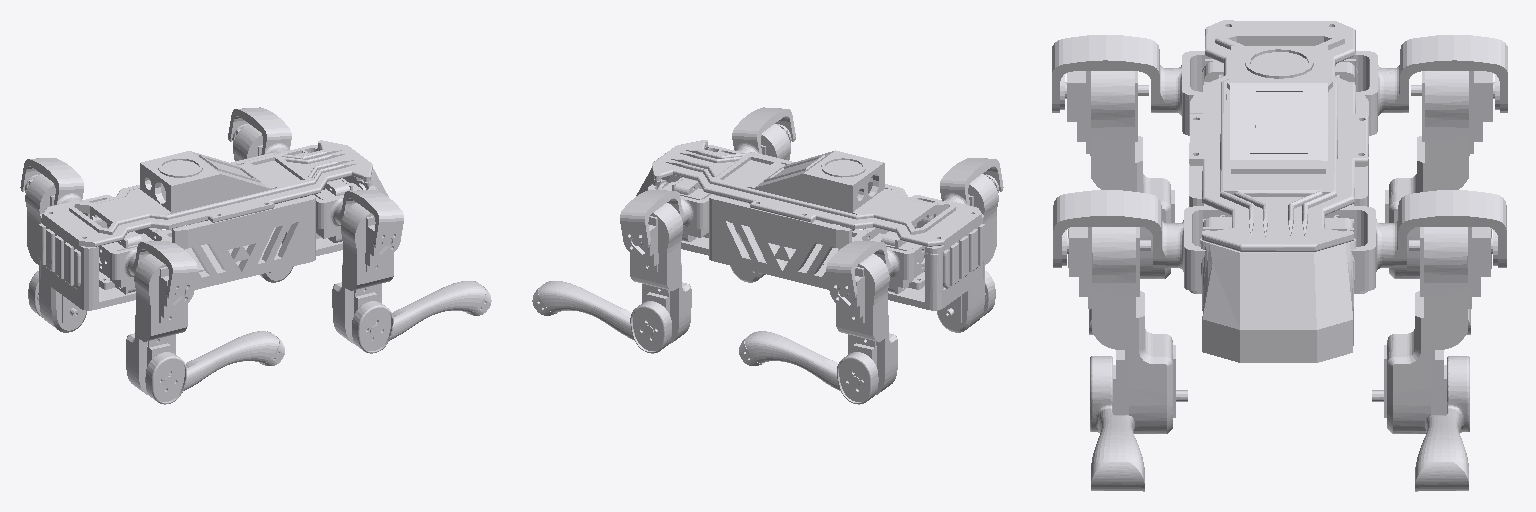
The robot description file, URDF, robot "sdog":
<?xml version="1.0" encoding="utf-8"?>
<!-- This URDF was automatically created by SolidWorks to URDF Exporter! Originally created by [author] ([email redacted]) 
     Commit Version: 1.6.0-1-g15f4949  Build Version: 1.6.7594.29634
     For more information, please see http://wiki.ros.org/sw_urdf_exporter -->
<robot
  name="sdog">
  <link
    name="base">
    <inertial>
      <origin
        xyz="2.4077E-19 -8.4026E-19 0"
        rpy="0 0 0" />
      <mass
        value="0.0027" />
      <inertia
        ixx="4.5E-08"
        ixy="6.9099E-24"
        ixz="0"
        iyy="4.5E-08"
        iyz="0"
        izz="4.5E-08" />
    </inertial>
    <visual>
      <origin
        xyz="0 0 0"
        rpy="0 0 0" />
      <geometry>
        <mesh
          filename="../meshes/base.STL" />
      </geometry>
      <material
        name="">
        <color
          rgba="0.89804 0.91765 0.92941 1" />
      </material>
    </visual>
    <collision>
      <origin
        xyz="0 0 0"
        rpy="0 0 0" />
      <geometry>
        <mesh
          filename="../meshes/base.STL" />
      </geometry>
    </collision>
  </link>
  <link
    name="body">
    <inertial>
      <origin
        xyz="-0.0034448 -0.00025317 -0.012297"
        rpy="0 0 0" />
      <mass
        value="0.18575" />
      <inertia
        ixx="7.6287E-05"
        ixy="1.7486E-06"
        ixz="9.3115E-06"
        iyy="0.00052346"
        iyz="-3.0964E-08"
        izz="0.00055683" />
    </inertial>
    <visual>
      <origin
        xyz="0 0 0"
        rpy="0 0 0" />
      <geometry>
        <mesh
          filename="../meshes/body.STL" />
      </geometry>
      <material
        name="">
        <color
          rgba="0.8902 0.8902 0.91373 1" />
      </material>
    </visual>
    <collision>
      <origin
        xyz="0 0 0"
        rpy="0 0 0" />
      <geometry>
        <mesh
          filename="../meshes/body.STL" />
      </geometry>
    </collision>
  </link>
  <joint
    name="floating_base"
    type="fixed">
    <origin
      xyz="0 0 0"
      rpy="0 0 0" />
    <parent
      link="base" />
    <child
      link="body" />
    <axis
      xyz="0 0 0" />
  </joint>
  <link
    name="fr_hip">
    <inertial>
      <origin
        xyz="0.0023257 -0.025249 0.0055137"
        rpy="0 0 0" />
      <mass
        value="0.01059" />
      <inertia
        ixx="4.1334E-06"
        ixy="-2.9871E-10"
        ixz="-1.5022E-08"
        iyy="1.5517E-06"
        iyz="8.9835E-07"
        izz="4.3284E-06" />
    </inertial>
    <visual>
      <origin
        xyz="0 0 0"
        rpy="0 0 0" />
      <geometry>
        <mesh
          filename="../meshes/fr_hip.STL" />
      </geometry>
      <material
        name="">
        <color
          rgba="0.8902 0.8902 0.91373 1" />
      </material>
    </visual>
    <collision>
      <origin
        xyz="0 0 0"
        rpy="0 0 0" />
      <geometry>
        <mesh
          filename="../meshes/fr_hip.STL" />
      </geometry>
    </collision>
  </link>
  <joint
    name="fr_hip_joint"
    type="revolute">
    <origin
      xyz="0.062526 -0.02085 0"
      rpy="0 0 0" />
    <parent
      link="body" />
    <child
      link="fr_hip" />
    <axis
      xyz="1 0 0" />
    <limit
      lower="-0.8"
      upper="0.8"
      effort="0.45"
      velocity="10" />
  </joint>
  <link
    name="fr_thigh">
    <inertial>
      <origin
        xyz="-5.894E-05 0.0027005 -0.028881"
        rpy="0 0 0" />
      <mass
        value="0.045112" />
      <inertia
        ixx="1.7194E-05"
        ixy="3.2529E-09"
        ixz="-1.5255E-08"
        iyy="1.6439E-05"
        iyz="2.9958E-06"
        izz="4.2244E-06" />
    </inertial>
    <visual>
      <origin
        xyz="0 0 0"
        rpy="0 0 0" />
      <geometry>
        <mesh
          filename="../meshes/fr_thigh.STL" />
      </geometry>
      <material
        name="">
        <color
          rgba="0.8902 0.8902 0.91373 1" />
      </material>
    </visual>
    <collision>
      <origin
        xyz="0 0 0"
        rpy="0 0 0" />
      <geometry>
        <mesh
          filename="../meshes/fr_thigh.STL" />
      </geometry>
    </collision>
  </link>
  <joint
    name="fr_thigh_joint"
    type="revolute">
    <origin
      xyz="0.00031911 -0.03686 0"
      rpy="0 0 0" />
    <parent
      link="fr_hip" />
    <child
      link="fr_thigh" />
    <axis
      xyz="0 1 0" />
    <limit
      lower="-1"
      upper="2"
      effort="0.45"
      velocity="10" />
  </joint>
  <link
    name="fr_calf">
    <inertial>
      <origin
        xyz="0.00056645 -0.001442 -0.035639"
        rpy="0 0 0" />
      <mass
        value="0.012809" />
      <inertia
        ixx="7.4696E-06"
        ixy="3.9251E-09"
        ixz="2.9619E-07"
        iyy="7.596E-06"
        iyz="5.6511E-07"
        izz="5.9209E-07" />
    </inertial>
    <visual>
      <origin
        xyz="0 0 0"
        rpy="0 0 0" />
      <geometry>
        <mesh
          filename="../meshes/fr_calf.STL" />
      </geometry>
      <material
        name="">
        <color
          rgba="0.8902 0.8902 0.91373 1" />
      </material>
    </visual>
    <collision>
      <origin
        xyz="0 0 0"
        rpy="0 0 0" />
      <geometry>
        <mesh
          filename="../meshes/fr_calf.STL" />
      </geometry>
    </collision>
  </link>
  <joint
    name="fr_calf_joint"
    type="revolute">
    <origin
      xyz="-1.4535E-05 0 -0.059049"
      rpy="0 0 0" />
    <parent
      link="fr_thigh" />
    <child
      link="fr_calf" />
    <axis
      xyz="0 1 0" />
    <limit
      lower="-2.69"
      upper="-0.5"
      effort="0.45"
      velocity="10" />
  </joint>
  <link
    name="fr_foot">
    <inertial>
      <origin
        xyz="-0.0024667 -1.4086E-05 -0.0022201"
        rpy="0 0 0" />
      <mass
        value="0.00168" />
      <inertia
        ixx="7.5531E-08"
        ixy="3.2658E-10"
        ixz="1.285E-08"
        iyy="3.8055E-08"
        iyz="1.101E-10"
        izz="7.7234E-08" />
    </inertial>
    <visual>
      <origin
        xyz="0 0 0"
        rpy="0 0 0" />
      <geometry>
        <mesh
          filename="../meshes/fr_foot.STL" />
      </geometry>
      <material
        name="">
        <color
          rgba="0.8902 0.8902 0.91373 1" />
      </material>
    </visual>
    <collision>
      <origin
        xyz="0 0 0"
        rpy="0 0 0" />
      <geometry>
        <mesh
          filename="../meshes/fr_foot.STL" />
      </geometry>
    </collision>
  </link>
  <joint
    name="fr_foot_joint"
    type="fixed" dont_collapse="true">
    <origin
      xyz="0 0 -0.065878"
      rpy="0 0 0" />
    <parent
      link="fr_calf" />
    <child
      link="fr_foot" />
    <axis
      xyz="0 0 0" />
  </joint>
  <link
    name="fl_hip">
    <inertial>
      <origin
        xyz="0.00232572873514476 0.0258760272511582 0.00551368183898278"
        rpy="0 0 0" />
      <mass
        value="0.0105903838198826" />
      <inertia
        ixx="4.13343295115188E-06"
        ixy="2.98221340592325E-10"
        ixz="-1.50192079560735E-08"
        iyy="1.55168940000143E-06"
        iyz="-8.98346104643244E-07"
        izz="4.32842503516181E-06" />
    </inertial>
    <visual>
      <origin
        xyz="0 0 0"
        rpy="0 0 0" />
      <geometry>
        <mesh
          filename="../meshes/fl_hip.STL" />
      </geometry>
      <material
        name="">
        <color
          rgba="0.890196078431372 0.890196078431372 0.913725490196078 1" />
      </material>
    </visual>
    <collision>
      <origin
        xyz="0 0 0"
        rpy="0 0 0" />
      <geometry>
        <mesh
          filename="../meshes/fl_hip.STL" />
      </geometry>
    </collision>
  </link>
  <joint
    name="fl_hip_joint"
    type="revolute">
    <origin
      xyz="0.062526 0.020224 0"
      rpy="0 0 0" />
    <parent
      link="body" />
    <child
      link="fl_hip" />
    <axis
      xyz="1 0 0" />
    <limit
      lower="-0.8"
      upper="0.8"
      effort="0.45"
      velocity="10" />
  </joint>
  <link
    name="fl_thigh">
    <inertial>
      <origin
        xyz="-5.9763E-05 -0.0026948 -0.028882"
        rpy="0 0 0" />
      <mass
        value="0.045114" />
      <inertia
        ixx="1.7197E-05"
        ixy="-2.6788E-09"
        ixz="-1.4873E-08"
        iyy="1.6442E-05"
        iyz="-2.9942E-06"
        izz="4.2244E-06" />
    </inertial>
    <visual>
      <origin
        xyz="0 0 0"
        rpy="0 0 0" />
      <geometry>
        <mesh
          filename="../meshes/fl_thigh.STL" />
      </geometry>
      <material
        name="">
        <color
          rgba="0.8902 0.8902 0.91373 1" />
      </material>
    </visual>
    <collision>
      <origin
        xyz="0 0 0"
        rpy="0 0 0" />
      <geometry>
        <mesh
          filename="../meshes/fl_thigh.STL" />
      </geometry>
    </collision>
  </link>
  <joint
    name="fl_thigh_joint"
    type="revolute">
    <origin
      xyz="0.00031911 0.037482 0"
      rpy="0 0 0" />
    <parent
      link="fl_hip" />
    <child
      link="fl_thigh" />
    <axis
      xyz="0 1 0" />
    <limit
      lower="-1"
      upper="2"
      effort="0.45"
      velocity="10" />
  </joint>
  <link
    name="fl_calf">
    <inertial>
      <origin
        xyz="0.000566135775357079 0.00144635703193307 -0.0356439874567274"
        rpy="0 0 0" />
      <mass
        value="0.0128105159723828" />
      <inertia
        ixx="7.47000914446944E-06"
        ixy="-3.92633592974948E-09"
        ixz="2.96028950714148E-07"
        iyy="7.59620892512602E-06"
        iyz="-5.65145350514275E-07"
        izz="5.92504372275594E-07" />
    </inertial>
    <visual>
      <origin
        xyz="0 0 0"
        rpy="0 0 0" />
      <geometry>
        <mesh
          filename="../meshes/fl_calf.STL" />
      </geometry>
      <material
        name="">
        <color
          rgba="0.890196078431372 0.890196078431372 0.913725490196078 1" />
      </material>
    </visual>
    <collision>
      <origin
        xyz="0 0 0"
        rpy="0 0 0" />
      <geometry>
        <mesh
          filename="../meshes/fl_calf.STL" />
      </geometry>
    </collision>
  </link>
  <joint
    name="fl_calf_joint"
    type="revolute">
    <origin
      xyz="-1.4535E-05 0 -0.059049"
      rpy="0 0 0" />
    <parent
      link="fl_thigh" />
    <child
      link="fl_calf" />
    <axis
      xyz="0 1 0" />
    <limit
      lower="-2.69"
      upper="-0.5"
      effort="0.45"
      velocity="10" />
  </joint>
  <link
    name="fl_foot">
    <inertial>
      <origin
        xyz="-0.00216226756803316 1.87750987636348E-05 -0.00221159631045623"
        rpy="0 0 0" />
      <mass
        value="0.00167992580204063" />
      <inertia
        ixx="7.55305375205639E-08"
        ixy="-3.26646829792112E-10"
        ixz="1.28473748339682E-08"
        iyy="3.80506697375295E-08"
        iyz="-1.10323964223417E-10"
        izz="7.72313714659328E-08" />
    </inertial>
    <visual>
      <origin
        xyz="0 0 0"
        rpy="0 0 0" />
      <geometry>
        <mesh
          filename="../meshes/fl_foot.STL" />
      </geometry>
      <material
        name="">
        <color
          rgba="0.890196078431372 0.890196078431372 0.913725490196078 1" />
      </material>
    </visual>
    <collision>
      <origin
        xyz="0 0 0"
        rpy="0 0 0" />
      <geometry>
        <mesh
          filename="../meshes/fl_foot.STL" />
      </geometry>
    </collision>
  </link>
  <joint
    name="fl_foot_joint"
    type="fixed" dont_collapse="true">
    <origin
      xyz="-0.00030458 0 -0.065887"
      rpy="0 0 0" />
    <parent
      link="fl_calf" />
    <child
      link="fl_foot" />
    <axis
      xyz="0 0 0" />
  </joint>
  <link
    name="br_hip">
    <inertial>
      <origin
        xyz="-0.00967871187321734 -0.0258760268541868 0.00551365134942225"
        rpy="0 0 0" />
      <mass
        value="0.0105903918059163" />
      <inertia
        ixx="4.133436115829E-06"
        ixy="-2.98709339232901E-10"
        ixz="-1.50222079814614E-08"
        iyy="1.55169257020037E-06"
        iyz="8.98349233785225E-07"
        izz="4.32842497016297E-06" />
    </inertial>
    <visual>
      <origin
        xyz="0 0 0"
        rpy="0 0 0" />
      <geometry>
        <mesh
          filename="../meshes/br_hip.STL" />
      </geometry>
      <material
        name="">
        <color
          rgba="0.890196078431372 0.890196078431372 0.913725490196078 1" />
      </material>
    </visual>
    <collision>
      <origin
        xyz="0 0 0"
        rpy="0 0 0" />
      <geometry>
        <mesh
          filename="../meshes/br_hip.STL" />
      </geometry>
    </collision>
  </link>
  <joint
    name="br_hip_joint"
    type="revolute">
    <origin
      xyz="-0.05616 -0.02085 0"
      rpy="0 0 0" />
    <parent
      link="body" />
    <child
      link="br_hip" />
    <axis
      xyz="1 0 0" />
    <limit
      lower="-0.8"
      upper="0.8"
      effort="0.45"
      velocity="10" />
  </joint>
  <link
    name="br_thigh">
    <inertial>
      <origin
        xyz="-5.894E-05 0.0020738 -0.028881"
        rpy="0 0 0" />
      <mass
        value="0.045112" />
      <inertia
        ixx="1.7194E-05"
        ixy="3.2529E-09"
        ixz="-1.5255E-08"
        iyy="1.6439E-05"
        iyz="2.9958E-06"
        izz="4.2244E-06" />
    </inertial>
    <visual>
      <origin
        xyz="0 0 0"
        rpy="0 0 0" />
      <geometry>
        <mesh
          filename="../meshes/br_thigh.STL" />
      </geometry>
      <material
        name="">
        <color
          rgba="0.8902 0.8902 0.91373 1" />
      </material>
    </visual>
    <collision>
      <origin
        xyz="0 0 0"
        rpy="0 0 0" />
      <geometry>
        <mesh
          filename="../meshes/br_thigh.STL" />
      </geometry>
    </collision>
  </link>
  <joint
    name="br_thigh_joint"
    type="revolute">
    <origin
      xyz="-0.011685 -0.03686 0"
      rpy="0 0 0" />
    <parent
      link="br_hip" />
    <child
      link="br_thigh" />
    <axis
      xyz="0 1 0" />
    <limit
      lower="-1"
      upper="2"
      effort="0.45"
      velocity="10" />
  </joint>
  <link
    name="br_calf">
    <inertial>
      <origin
        xyz="0.000727885443581947 -0.00206714865167992 -0.0356206635637965"
        rpy="0 0 0" />
      <mass
        value="0.0128088078540617" />
      <inertia
        ixx="7.46647822170471E-06"
        ixy="1.11960029020891E-09"
        ixz="3.30140771375292E-07"
        iyy="7.59599585268634E-06"
        iyz="5.65419796527661E-07"
        izz="5.95228284248116E-07" />
    </inertial>
    <visual>
      <origin
        xyz="0 0 0"
        rpy="0 0 0" />
      <geometry>
        <mesh
          filename="../meshes/br_calf.STL" />
      </geometry>
      <material
        name="">
        <color
          rgba="0.890196078431372 0.890196078431372 0.913725490196078 1" />
      </material>
    </visual>
    <collision>
      <origin
        xyz="0 0 0"
        rpy="0 0 0" />
      <geometry>
        <mesh
          filename="../meshes/br_calf.STL" />
      </geometry>
    </collision>
  </link>
  <joint
    name="br_calf_joint"
    type="revolute">
    <origin
      xyz="0 0 -0.059063"
      rpy="0 0 0" />
    <parent
      link="br_thigh" />
    <child
      link="br_calf" />
    <axis
      xyz="0 1 0" />
    <limit
      lower="-2.69"
      upper="-0.5"
      effort="0.45"
      velocity="10" />
  </joint>
  <link
    name="br_foot">
    <inertial>
      <origin
        xyz="-0.00215165026589079 -0.000637816835851596 -0.00223036153214118"
        rpy="0 0 0" />
      <mass
        value="0.00167996390771006" />
      <inertia
        ixx="7.54037153013597E-08"
        ixy="3.25481480582468E-10"
        ixz="1.2840929530304E-08"
        iyy="3.80547136310932E-08"
        iyz="1.10059145661244E-10"
        izz="7.736098176855E-08" />
    </inertial>
    <visual>
      <origin
        xyz="0 0 0"
        rpy="0 0 0" />
      <geometry>
        <mesh
          filename="../meshes/br_foot.STL" />
      </geometry>
      <material
        name="">
        <color
          rgba="0.890196078431372 0.890196078431372 0.913725490196078 1" />
      </material>
    </visual>
    <collision>
      <origin
        xyz="0 0 0"
        rpy="0 0 0" />
      <geometry>
        <mesh
          filename="../meshes/br_foot.STL" />
      </geometry>
    </collision>
  </link>
  <joint
    name="br_foot_joint"
    type="fixed" dont_collapse="true">
    <origin
      xyz="0 0 -0.065864"
      rpy="0 0 0" />
    <parent
      link="br_calf" />
    <child
      link="br_foot" />
    <axis
      xyz="0 0 0" />
  </joint>
  <link
    name="bl_hip">
    <inertial>
      <origin
        xyz="0.00200325721986389 0.0258760272571098 0.00551368184161275"
        rpy="0 0 0" />
      <mass
        value="0.0105903838127261" />
      <inertia
        ixx="4.13343295032379E-06"
        ixy="2.98221335386782E-10"
        ixz="-1.50192087370497E-08"
        iyy="1.55168939975842E-06"
        iyz="-8.98346104369858E-07"
        izz="4.32842503451186E-06" />
    </inertial>
    <visual>
      <origin
        xyz="0 0 0"
        rpy="0 0 0" />
      <geometry>
        <mesh
          filename="../meshes/bl_hip.STL" />
      </geometry>
      <material
        name="">
        <color
          rgba="0.890196078431372 0.890196078431372 0.913725490196078 1" />
      </material>
    </visual>
    <collision>
      <origin
        xyz="0 0 0"
        rpy="0 0 0" />
      <geometry>
        <mesh
          filename="../meshes/bl_hip.STL" />
      </geometry>
    </collision>
  </link>
  <joint
    name="bl_hip_joint"
    type="revolute">
    <origin
      xyz="-0.067842 0.02085 0"
      rpy="0 0 0" />
    <parent
      link="body" />
    <child
      link="bl_hip" />
    <axis
      xyz="1 0 0" />
    <limit
      lower="-0.8"
      upper="0.8"
      effort="0.45"
      velocity="10" />
  </joint>
  <link
    name="bl_thigh">
    <inertial>
      <origin
        xyz="-5.9763E-05 -0.0020681 -0.028882"
        rpy="0 0 0" />
      <mass
        value="0.045114" />
      <inertia
        ixx="1.7197E-05"
        ixy="-2.6788E-09"
        ixz="-1.4873E-08"
        iyy="1.6442E-05"
        iyz="-2.9942E-06"
        izz="4.2244E-06" />
    </inertial>
    <visual>
      <origin
        xyz="0 0 0"
        rpy="0 0 0" />
      <geometry>
        <mesh
          filename="../meshes/bl_thigh.STL" />
      </geometry>
      <material
        name="">
        <color
          rgba="0.8902 0.8902 0.91373 1" />
      </material>
    </visual>
    <collision>
      <origin
        xyz="0 0 0"
        rpy="0 0 0" />
      <geometry>
        <mesh
          filename="../meshes/bl_thigh.STL" />
      </geometry>
    </collision>
  </link>
  <joint
    name="bl_thigh_joint"
    type="revolute">
    <origin
      xyz="0 0.036855 0"
      rpy="0 0 0" />
    <parent
      link="bl_hip" />
    <child
      link="bl_thigh" />
    <axis
      xyz="0 1 0" />
    <limit
      lower="-1"
      upper="2"
      effort="0.45"
      velocity="10" />
  </joint>
  <link
    name="bl_calf">
    <inertial>
      <origin
        xyz="0.000727593740146013 0.00207149606416637 -0.0356259716111289"
        rpy="0 0 0" />
      <mass
        value="0.0128105101695308" />
      <inertia
        ixx="7.46691808821269E-06"
        ixy="-1.12095646257841E-09"
        ixz="3.29980644880001E-07"
        iyy="7.59616208023116E-06"
        iyz="-5.6545966575922E-07"
        izz="5.95643712331078E-07" />
    </inertial>
    <visual>
      <origin
        xyz="0 0 0"
        rpy="0 0 0" />
      <geometry>
        <mesh
          filename="../meshes/bl_calf.STL" />
      </geometry>
      <material
        name="">
        <color
          rgba="0.890196078431372 0.890196078431372 0.913725490196078 1" />
      </material>
    </visual>
    <collision>
      <origin
        xyz="0 0 0"
        rpy="0 0 0" />
      <geometry>
        <mesh
          filename="../meshes/bl_calf.STL" />
      </geometry>
    </collision>
  </link>
  <joint
    name="bl_calf_joint"
    type="revolute">
    <origin
      xyz="0 0 -0.059063"
      rpy="0 0 0" />
    <parent
      link="bl_thigh" />
    <child
      link="bl_calf" />
    <axis
      xyz="0 1 0" />
    <limit
      lower="-2.69"
      upper="-0.5"
      effort="0.45"
      velocity="10" />
  </joint>
  <link
    name="bl_foot">
    <inertial>
      <origin
        xyz="-0.00215179678502332 0.000642512810785499 -0.00223045427412283"
        rpy="0 0 0" />
      <mass
        value="0.00167992580343433" />
      <inertia
        ixx="7.54036695047167E-08"
        ixy="-3.25539698592949E-10"
        ixz="1.28383638664401E-08"
        iyy="3.80506617739251E-08"
        iyz="-1.10239111462529E-10"
        izz="7.7358250357067E-08" />
    </inertial>
    <visual>
      <origin
        xyz="0 0 0"
        rpy="0 0 0" />
      <geometry>
        <mesh
          filename="../meshes/bl_foot.STL" />
      </geometry>
      <material
        name="">
        <color
          rgba="0.890196078431372 0.890196078431372 0.913725490196078 1" />
      </material>
    </visual>
    <collision>
      <origin
        xyz="0 0 0"
        rpy="0 0 0" />
      <geometry>
        <mesh
          filename="../meshes/bl_foot.STL" />
      </geometry>
    </collision>
  </link>
  <joint
    name="bl_foot_joint"
    type="fixed" dont_collapse="true">
    <origin
      xyz="0 0 -0.065864"
      rpy="0 0 0" />
    <parent
      link="bl_calf" />
    <child
      link="bl_foot" />
    <axis
      xyz="0 0 0" />
  </joint>
</robot>

--- Facts derived from the render (not from the file) ---
The picture shows the robot from 3 angles, left to right: view 1: azimuth 30°, elevation 25°; view 2: azimuth 150°, elevation 25°; view 3: azimuth 270°, elevation 25°; orthographic projection.
Robot: sdog — 18 links, 17 joints (12 revolute, 5 fixed); root link base; default pose: all joints at 0 but 4 set to mid-range because 0 is outside their limits (fr_calf_joint = -1.59, fl_calf_joint = -1.59, br_calf_joint = -1.59, bl_calf_joint = -1.59).
Visible links, largest first — view 1: body, br_thigh, fr_thigh, fr_calf, br_calf, br_hip, bl_thigh, fr_hip, fl_hip, bl_hip, fl_thigh; view 2: body, bl_thigh, fl_thigh, fl_calf, bl_calf, bl_hip, br_thigh, fl_hip, fr_hip, br_hip, fr_thigh; view 3: body, fl_thigh, fr_thigh, br_thigh, bl_thigh, fl_hip, fr_hip, bl_hip, br_hip, fr_calf, fl_calf, fl_foot (+1 smaller).
Link boxes in pixels (bbox=[...]): body: bbox=[39, 140, 388, 310]; br_thigh: bbox=[126, 254, 187, 394]; fr_thigh: bbox=[332, 203, 393, 344]; fr_calf: bbox=[352, 281, 485, 353]; br_calf: bbox=[145, 331, 278, 404]; br_hip: bbox=[98, 230, 197, 306]; bl_thigh: bbox=[25, 174, 86, 332]; fr_hip: bbox=[301, 179, 403, 255]; fl_hip: bbox=[228, 107, 317, 154]; bl_hip: bbox=[20, 158, 112, 204]; fl_thigh: bbox=[232, 124, 293, 282]; body: bbox=[636, 140, 984, 310]; bl_thigh: bbox=[836, 254, 897, 394]; fl_thigh: bbox=[630, 203, 691, 344]; fl_calf: bbox=[538, 281, 671, 353]; bl_calf: bbox=[745, 331, 878, 404]; bl_hip: bbox=[826, 230, 925, 306]; br_thigh: bbox=[937, 174, 998, 332]; fl_hip: bbox=[620, 180, 721, 255]; fr_hip: bbox=[708, 107, 795, 153]; br_hip: bbox=[911, 158, 1003, 205]; fr_thigh: bbox=[730, 124, 791, 282]; body: bbox=[1189, 20, 1368, 362]; fl_thigh: bbox=[1372, 227, 1497, 433]; fr_thigh: bbox=[1062, 227, 1187, 433]; br_thigh: bbox=[1060, 71, 1174, 278]; bl_thigh: bbox=[1385, 71, 1499, 278]; fl_hip: bbox=[1325, 190, 1506, 290]; fr_hip: bbox=[1053, 190, 1231, 290]; bl_hip: bbox=[1349, 35, 1507, 135]; br_hip: bbox=[1052, 35, 1211, 135]; fr_calf: bbox=[1090, 356, 1143, 465]; fl_calf: bbox=[1416, 356, 1469, 465]; fl_foot: bbox=[1415, 462, 1468, 491].
Bounding box of the posed robot: 0.2352 × 0.1625 × 0.1057 m (x, y, z).
18 mesh visuals loaded from 18 distinct referenced files (18 binary STL).